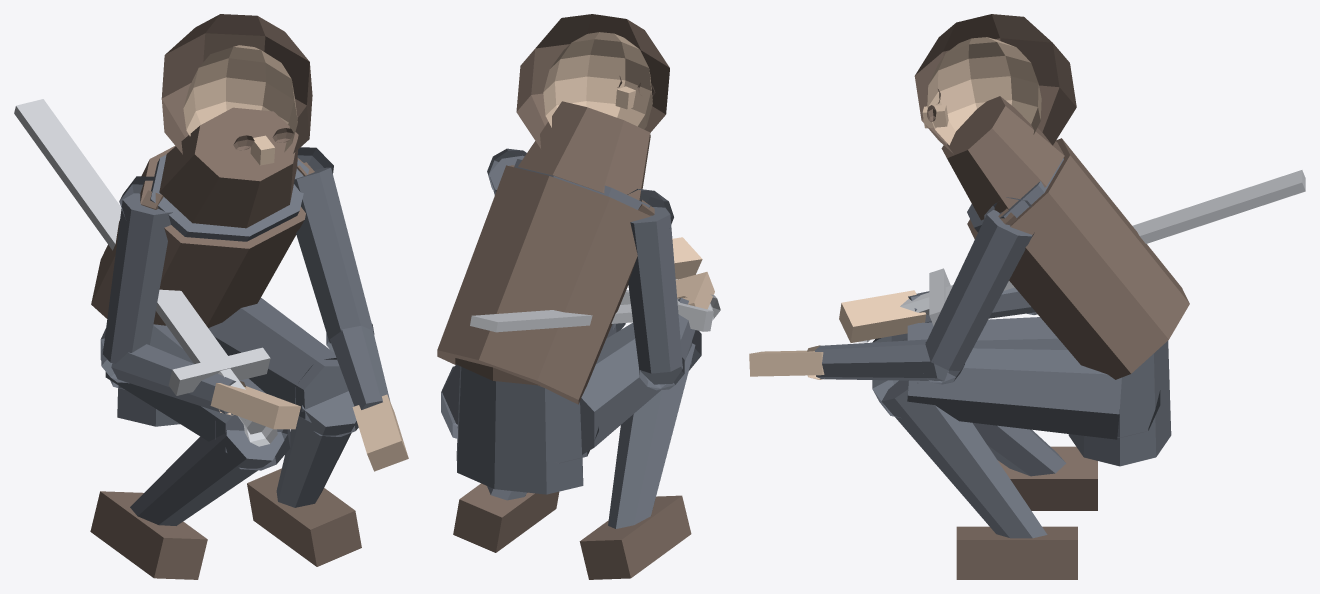
File: low-poly-character-figures-rogue-crouching-e8bb25e0__36376.glb
3 renders of one model, left to right at view 1: azimuth 30°, elevation 25°; view 2: azimuth 150°, elevation 25°; view 3: azimuth 270°, elevation 25°, orthographic. The views are drawn at different scales.
Visible parts, largest first — view 1: rogue-crouching; view 2: rogue-crouching; view 3: rogue-crouching.
Boxes of the visible parts, box(x1,y1,x2,y2) form: rogue-crouching: box(14, 14, 408, 579); rogue-crouching: box(437, 14, 720, 579); rogue-crouching: box(749, 14, 1305, 579).
Bounding box in the file's own units: 0.4594 × 1.1 × 1.07.
